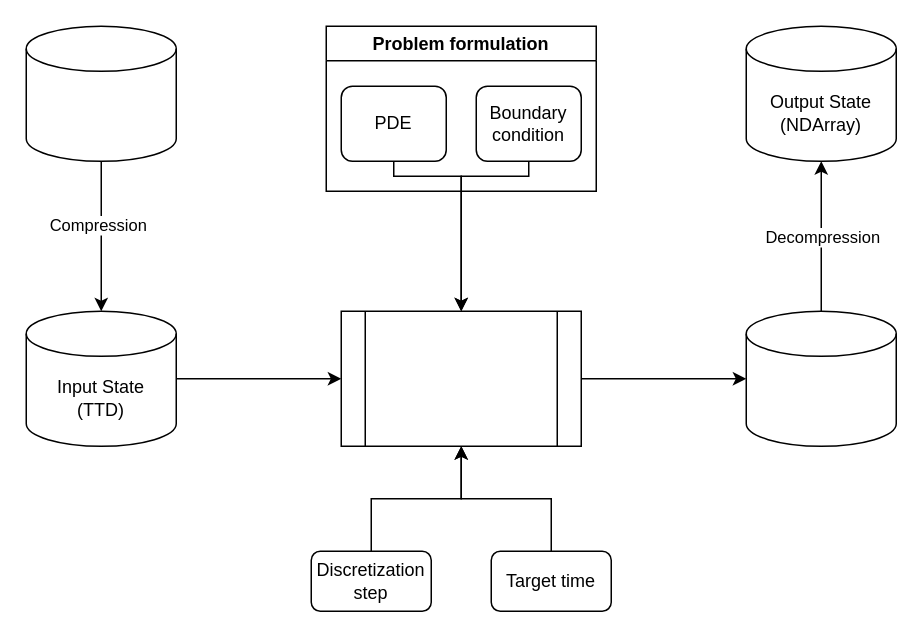
This 923x638 diagram has some shape labels left out. Here are the shapes that lost their labels. From the top down, the centre of each, then its label:
[100,93]: Input State (NDArray)
[460,378]: Solver
[820,378]: Output State (TTD)
